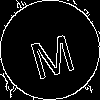M: (25, 25, 78, 81)
